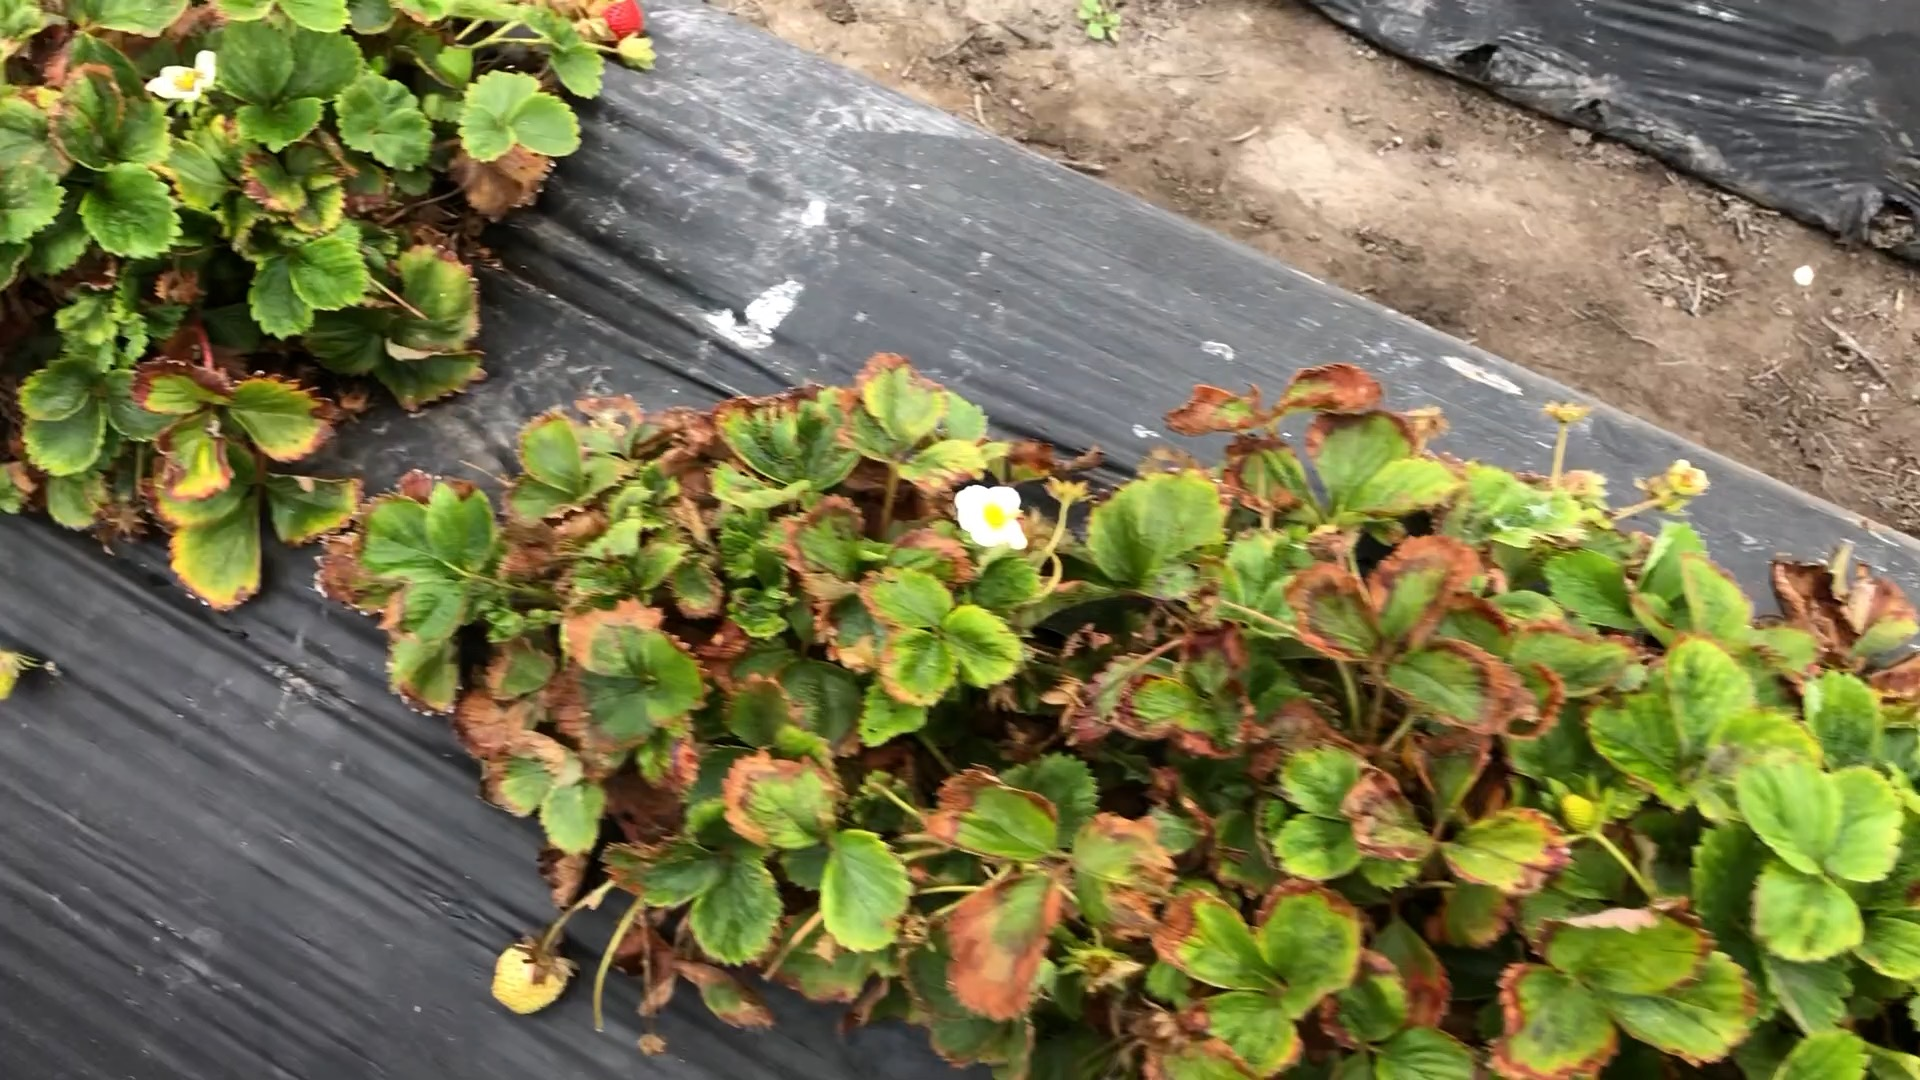ripe_strawberry: (589, 1, 649, 45)
unripe_strawberry: (491, 938, 582, 1019)
